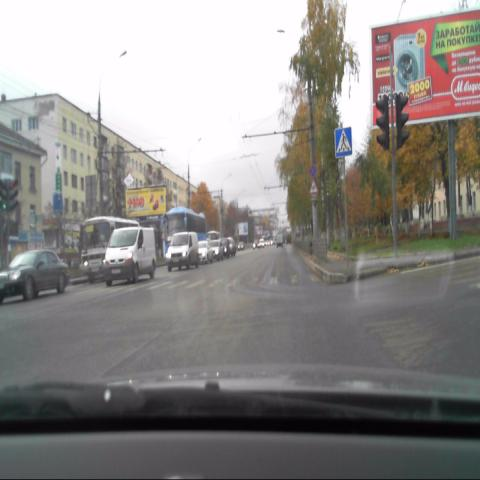5_19_1: (334, 126, 353, 158)
